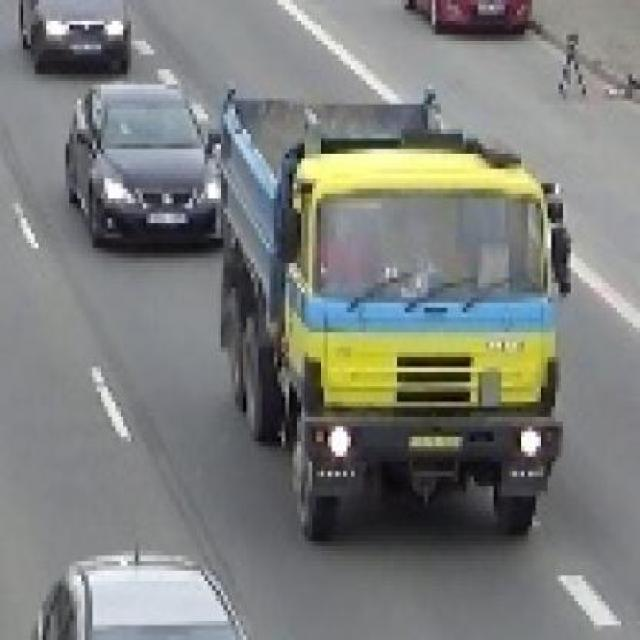truck: (202, 85, 568, 537)
